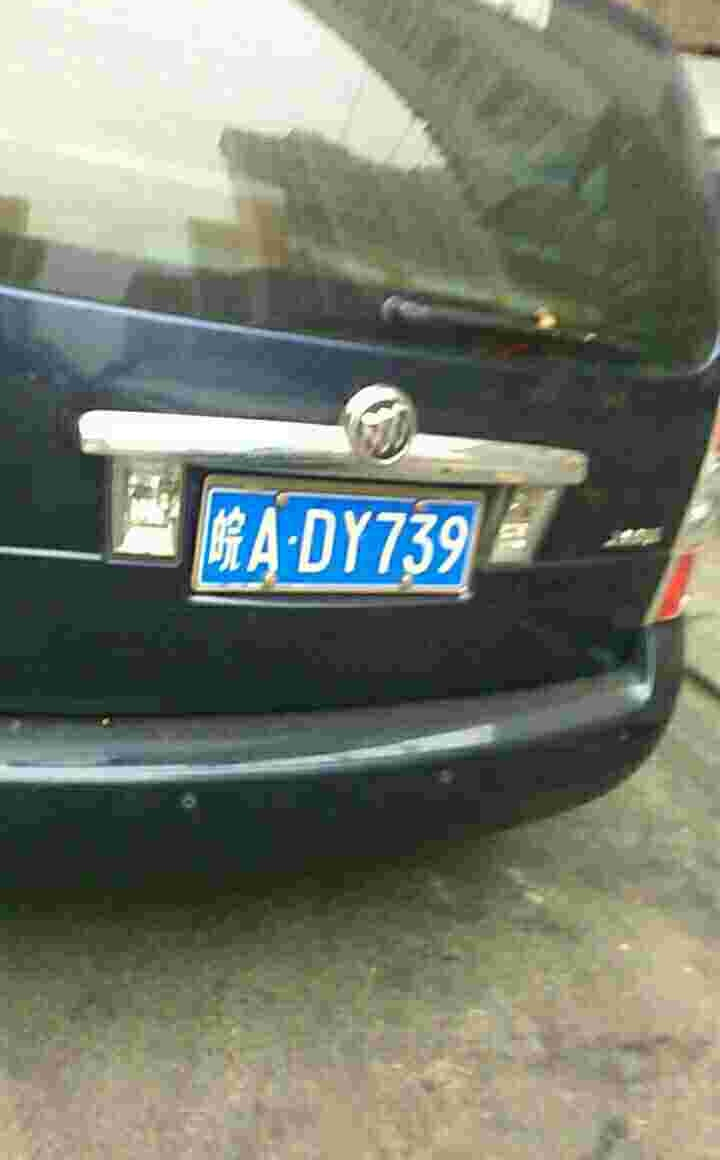license_plate: (204, 501, 474, 592)
